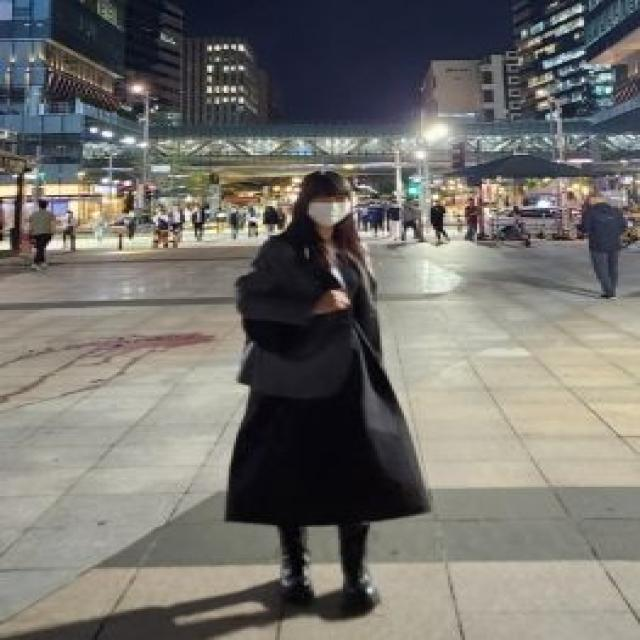blazer: (226, 234, 386, 398)
skirt: (221, 341, 433, 528)
